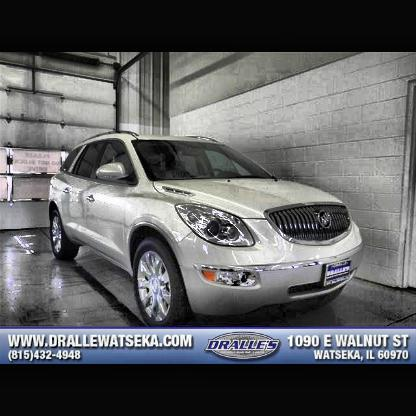Buick Enclave SUV 2012: (47, 129, 365, 328)
